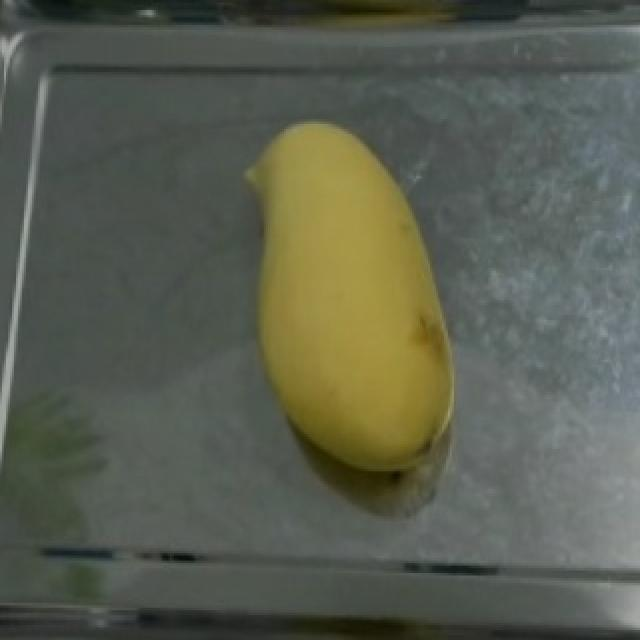fruit: (226, 107, 476, 496)
